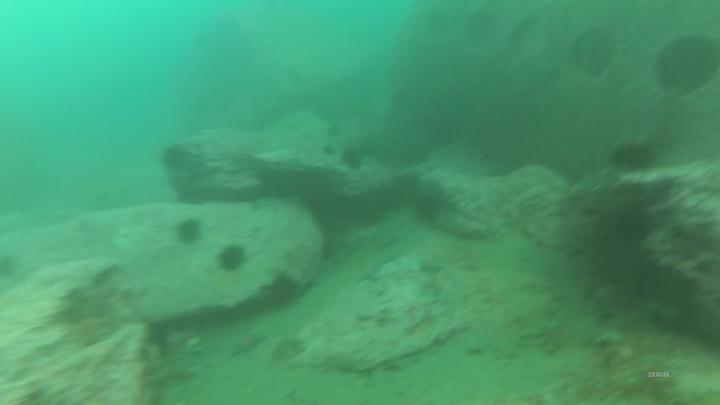echinus: (613, 138, 657, 174), (213, 240, 255, 277), (173, 213, 207, 248), (273, 271, 300, 305)
starfish: (229, 329, 270, 361)
